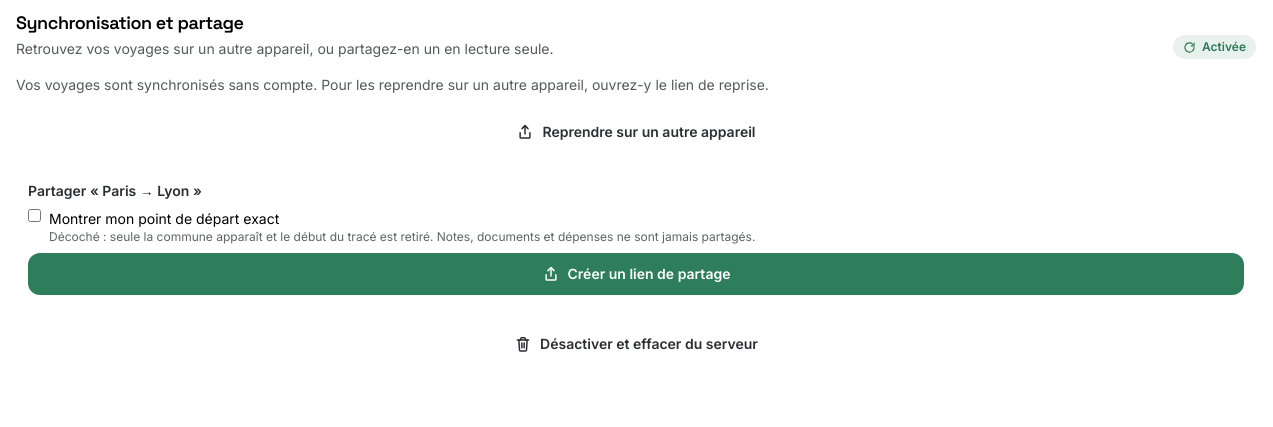
Test: SyncShareCard › crée un lien de partage avec le départ masqué par défaut, puis l’arrête
The image size is (1273, 427).
Expected: the checkbox labelled "point de départ exact" is not checked, [28,209,41,222]
What coordinates should you click on to do the following:
click the button "Créer un lien de partage"
I would click on:
 (636, 274)
Its box is [28,253,1244,295].
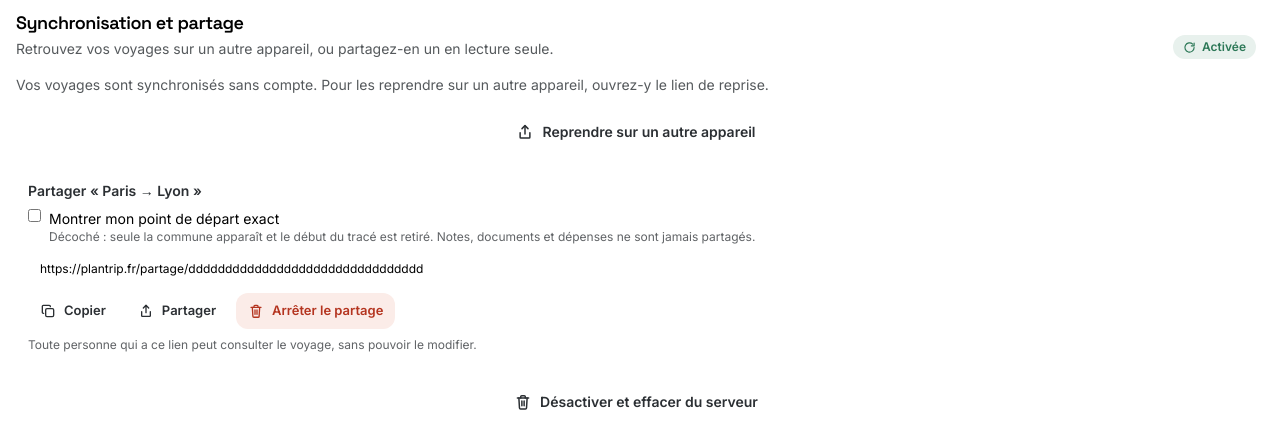
What coordinates should you click on to do the following:
click the button "Arrêter le partage"
I would click on:
 (316, 311)
Its box is [236,293,395,329].
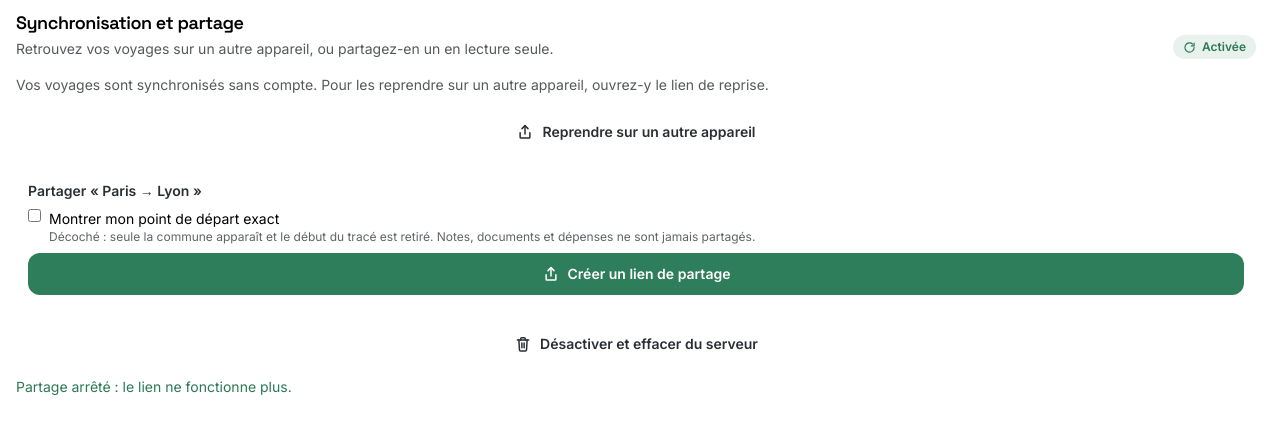
Expected: the message shows "le lien ne fonctionne plus", [16,378,292,395]
